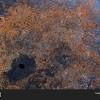rust: (1, 3, 100, 89)
